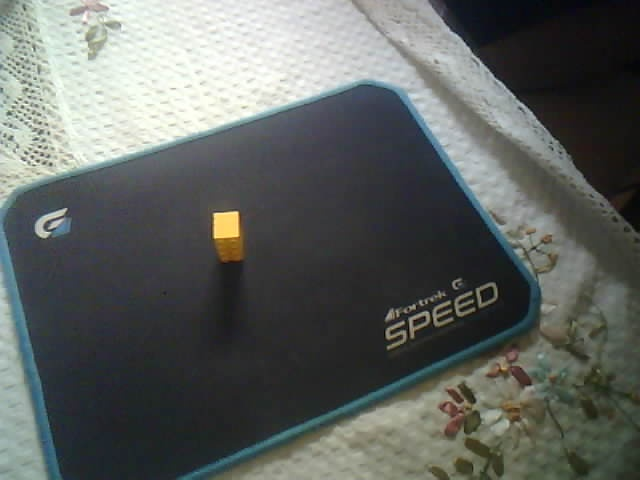lego: (210, 209, 244, 263)
